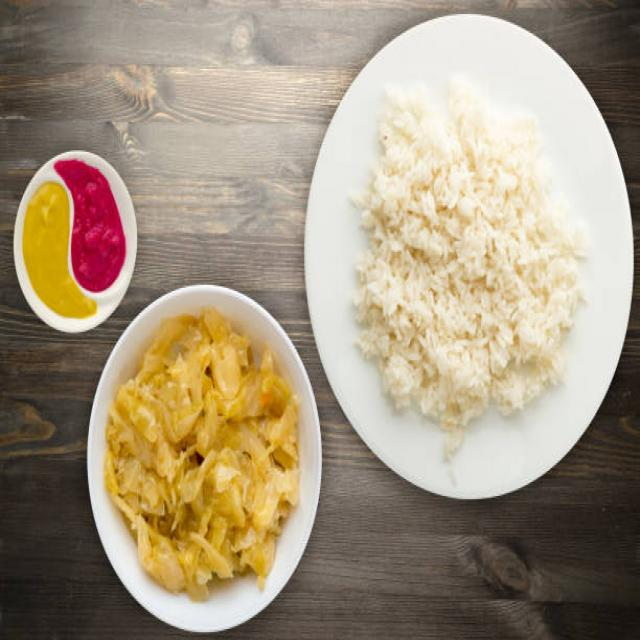rice: (347, 78, 592, 465)
